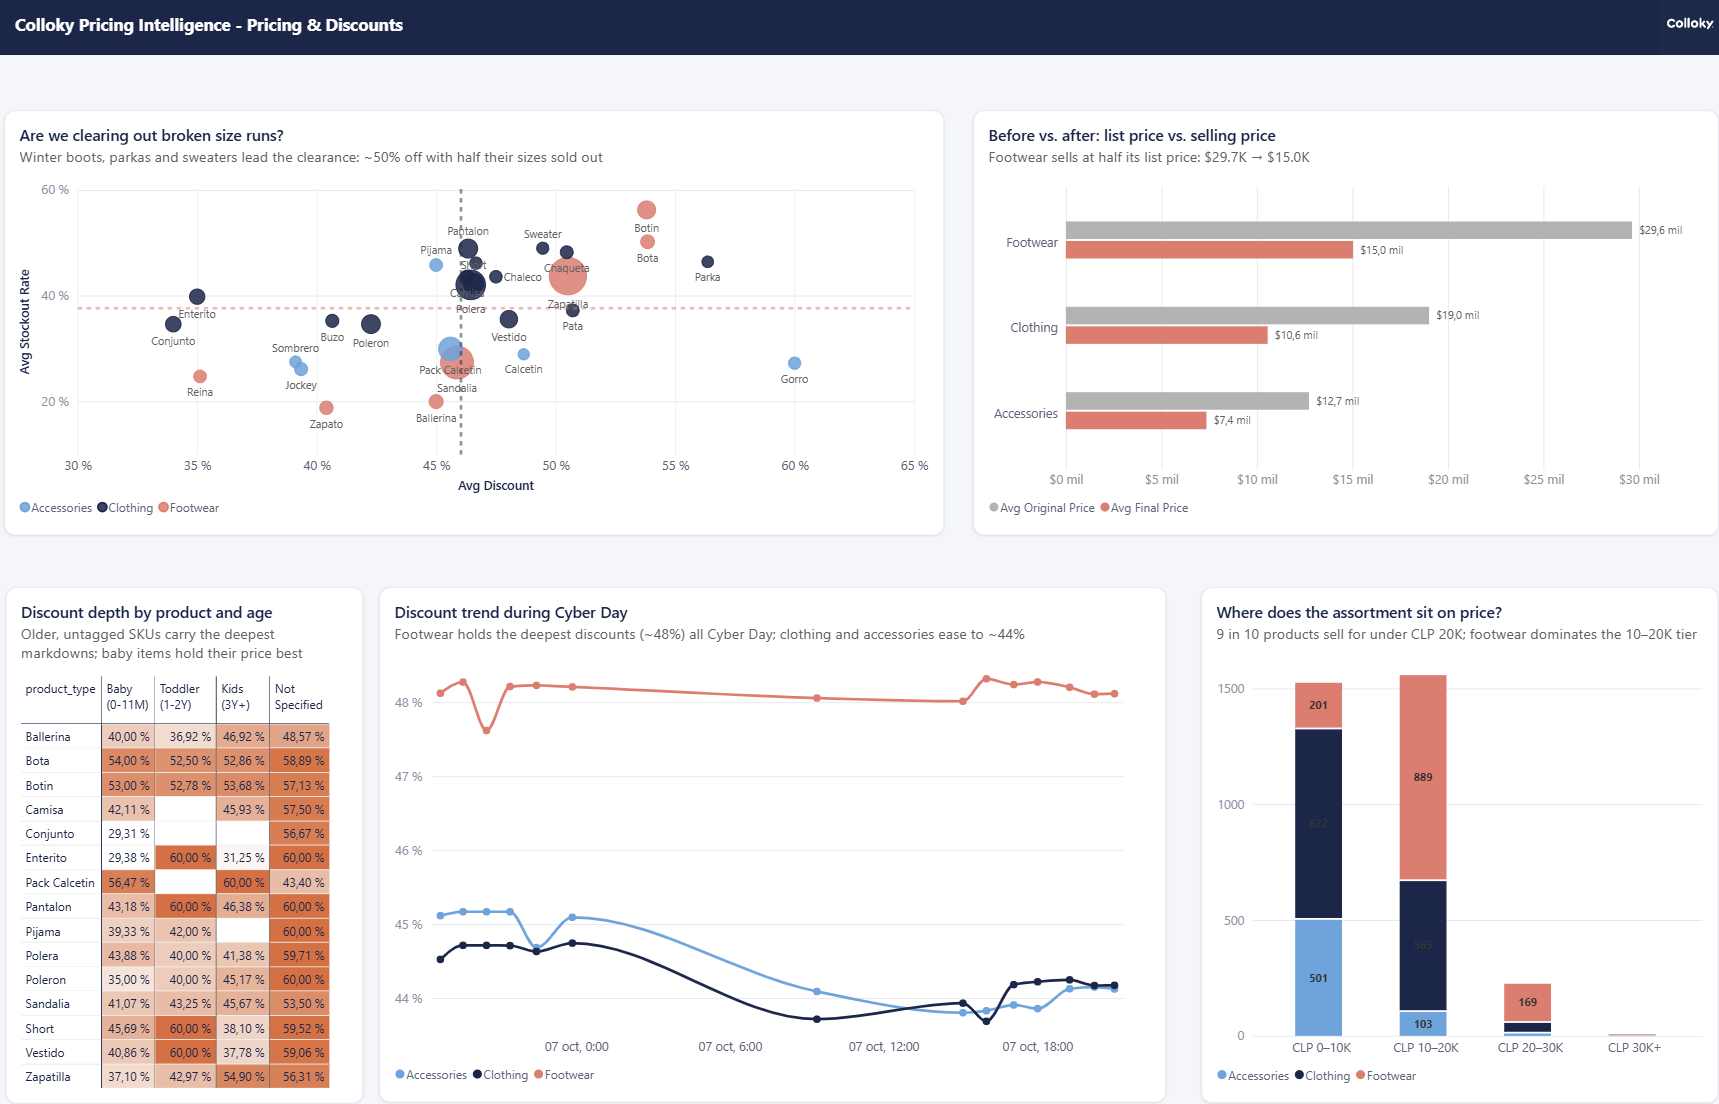

This screenshot's page, from the dashboard's own definition file:
{"tool":"powerbi","page":{"name":"Pricing & Discounts","canvas":[2050,1300],"ordinal":1},"visuals":[{"type":"shape","box":[0,0,2050,70],"z":0},{"type":"scatterChart","title":"Are we clearing out broken size runs?","fields":{"Category":["colloky_snapshots.product_type"],"Series":["colloky_snapshots.category"],"Size":["_colloky_measures.Products"],"X":["_colloky_measures.Avg Discount"],"Y":["_colloky_measures.Avg Stockout Rate"]},"box":[62,132,1044,472],"z":1000},{"type":"pivotTable","title":"Discount depth by product and age","fields":{"Columns":["colloky_snapshots.age_segment"],"Rows":["colloky_snapshots.product_type"],"Values":["_colloky_measures.Avg Discount"]},"box":[62.8,661.7,396.8,573.4],"z":2000},{"type":"lineChart","title":"Discount trend during Cyber Day","fields":{"Category":["colloky_snapshots.date_scraped"],"Series":["colloky_snapshots.category"],"Y":["_colloky_measures.Avg Discount"]},"box":[478,662,874,572],"z":3000},{"type":"clusteredBarChart","title":"Before vs. after: list price vs. selling price","fields":{"Category":["colloky_snapshots.category"],"Y":["_colloky_measures.Avg Original Price","_colloky_measures.Avg Final Price"]},"box":[1138,132,828,472],"z":4000},{"type":"columnChart","title":"Where does the assortment sit on price?","fields":{"Category":["colloky_snapshots.price_tier"],"Series":["colloky_snapshots.category"],"Y":["_colloky_measures.Products"]},"box":[1392,662,574.3,572.9],"z":5000},{"type":"textbox","box":[72.9,22.9,510,28.6],"z":6000},{"type":"image","box":[1849.4,0,169.2,69.9],"z":7000}]}

Visuals, with their boxes in screenshot pixels (x1, y1, x2, y2), scaled from the page's 2050x1300 canvas onto the 1719x1104 screenshot:
shape: x1=0 y1=0 x2=1718 y2=59
"Are we clearing out broken size runs?" scatterChart: x1=52 y1=112 x2=927 y2=513
"Discount depth by product and age" pivotTable: x1=53 y1=562 x2=385 y2=1049
"Discount trend during Cyber Day" lineChart: x1=401 y1=562 x2=1134 y2=1048
"Before vs. after: list price vs. selling price" clusteredBarChart: x1=954 y1=112 x2=1649 y2=513
"Where does the assortment sit on price?" columnChart: x1=1167 y1=562 x2=1649 y2=1049
textbox: x1=61 y1=19 x2=489 y2=44
image: x1=1551 y1=0 x2=1693 y2=59
